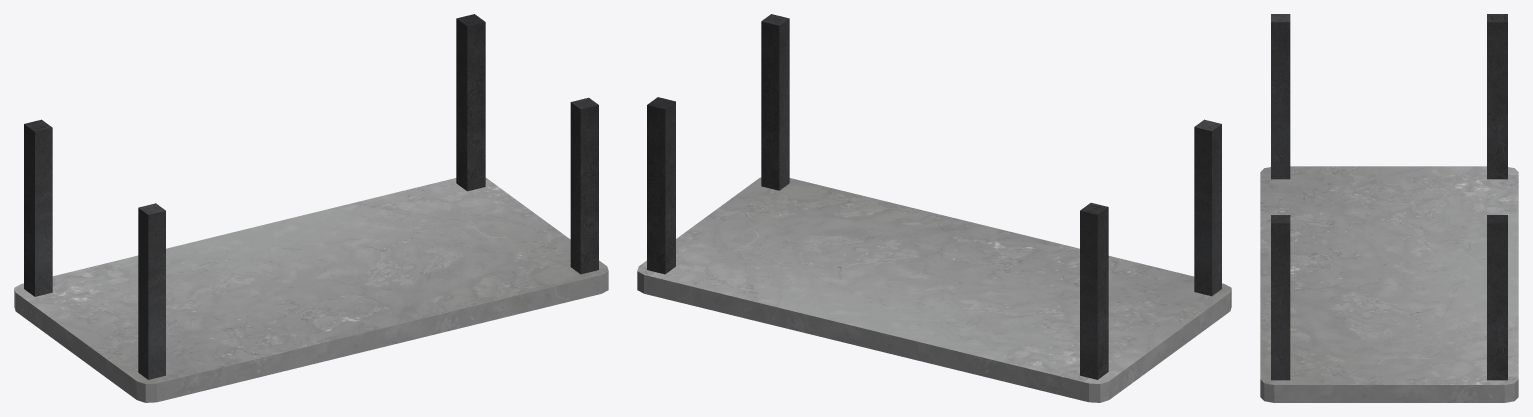
The model's file is mesa2x1.fbx.
3 views of the same model, side by side, from view 1: azimuth 30°, elevation 25°; view 2: azimuth 150°, elevation 25°; view 3: azimuth 270°, elevation 25° (orthographic). The views are drawn at different scales.
Visible parts, largest first — view 1: Cube; view 2: Cube; view 3: Cube.
Boxes of the visible parts, x1,y1,x2,y2 form: Cube: [14, 14, 608, 402]; Cube: [637, 14, 1231, 402]; Cube: [1260, 14, 1518, 402].
Bounding box in the file's own units: 200 × 74.68 × 100.
2 materials, 2 textured.
